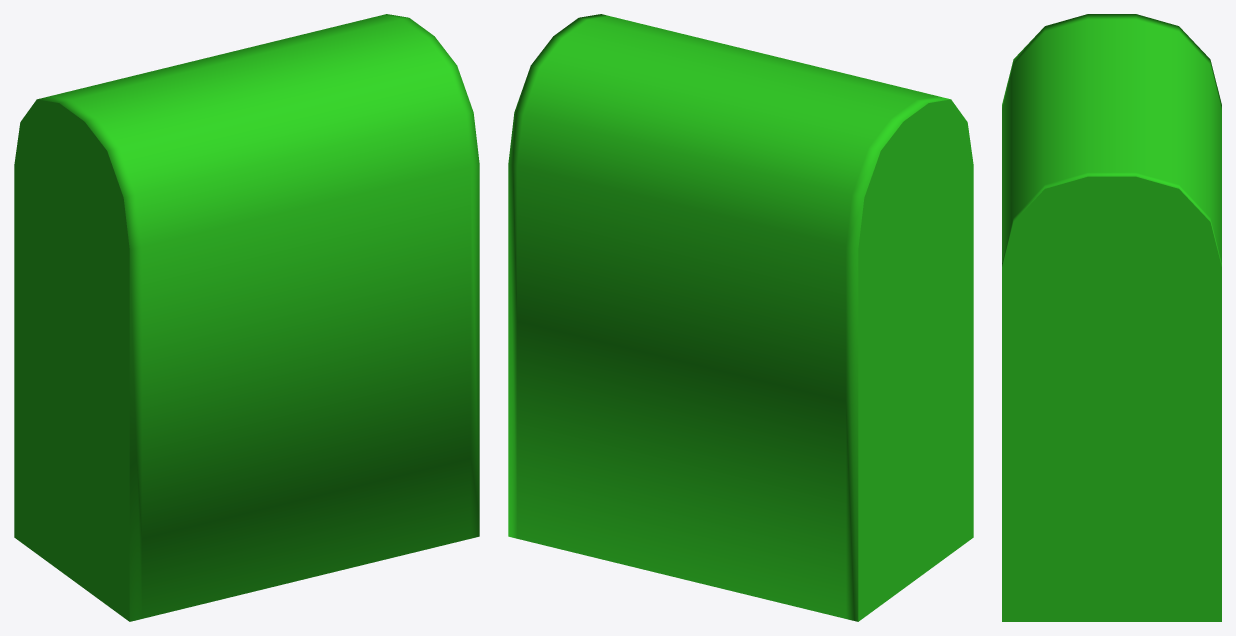
The model's file is NormalContent.fbx.
The picture shows the model from 3 angles, left to right: view 1: azimuth 30°, elevation 25°; view 2: azimuth 150°, elevation 25°; view 3: azimuth 270°, elevation 25°; orthographic projection. The views are drawn at different scales.
Parts seen in each view (by area): view 1: Model; view 2: Model; view 3: Model.
Part boxes in pixels (<box>): Model: <box>14,14,479,621</box>; Model: <box>508,14,973,621</box>; Model: <box>1002,14,1221,621</box>.
Size of what is drawn, in the model's own units: 0.6258 by 0.7985 by 0.3575.
